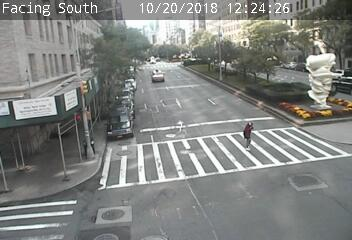car: (151, 69, 165, 82)
